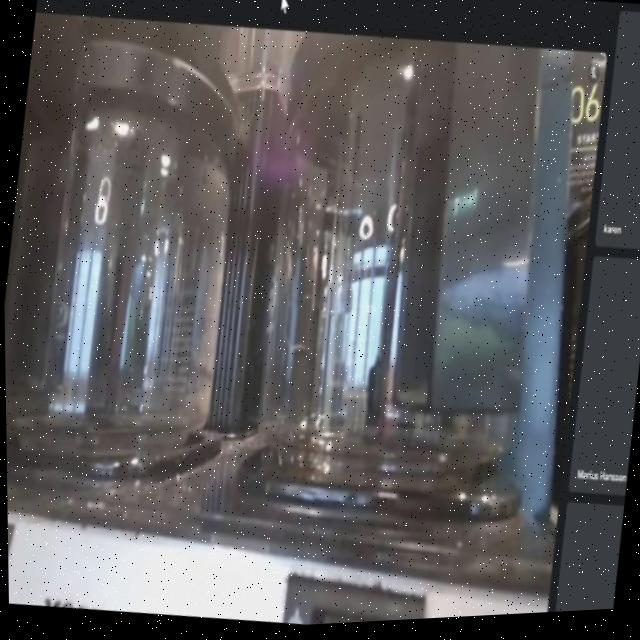nocoffee: (227, 23, 561, 534), (0, 7, 273, 495)
